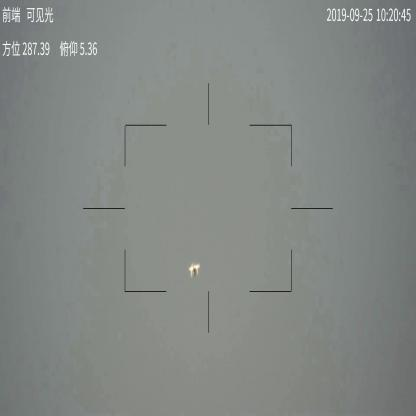uav: (186, 262, 202, 278)
